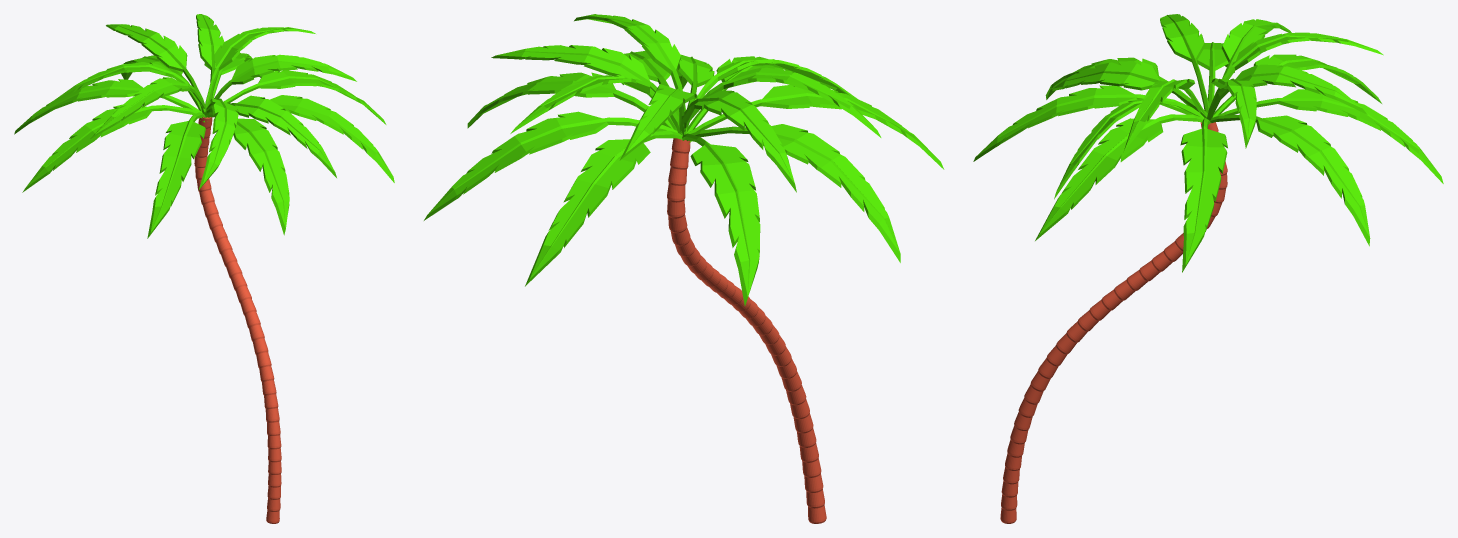
File: SOT works.fbx
3 renders of one model, left to right at view 1: azimuth 30°, elevation 25°; view 2: azimuth 150°, elevation 25°; view 3: azimuth 270°, elevation 25°, orthographic. The views are drawn at different scales.
Parts seen in each view (by area): view 1: Cylinder.119, Plane.008, Plane.001, Plane.004, Plane.016, Plane.007, Plane.010, Plane.005, Plane.014, Plane.013, Plane.009, Plane.002 (+4 smaller); view 2: Cylinder.119, Plane.005, Plane.003, Plane.006, Plane.004, Plane.012, Plane.015, Plane.008, Plane.002, Plane.013, Plane.010, Plane.014 (+5 smaller); view 3: Cylinder.119, Plane.002, Plane.006, Plane.007, Plane.001, Plane.003, Plane.009, Plane.011, Plane.013, Plane.014, Plane.016, Plane.010 (+5 smaller).
Boxes of the visible parts, <box> form: Cylinder.119: <box>194,117,281,523</box>; Plane.008: <box>147,112,206,238</box>; Plane.001: <box>204,112,289,235</box>; Plane.004: <box>22,104,202,192</box>; Plane.016: <box>203,95,336,177</box>; Plane.007: <box>207,95,394,182</box>; Plane.010: <box>205,54,356,113</box>; Plane.005: <box>14,79,202,134</box>; Plane.014: <box>106,24,204,113</box>; Plane.013: <box>90,77,206,138</box>; Plane.009: <box>199,98,238,189</box>; Plane.002: <box>200,70,386,124</box>; Cylinder.119: <box>667,138,826,523</box>; Plane.005: <box>682,133,760,305</box>; Plane.003: <box>525,130,682,286</box>; Plane.006: <box>424,111,691,220</box>; Plane.004: <box>687,124,900,262</box>; Plane.012: <box>680,90,796,192</box>; Plane.015: <box>491,45,685,135</box>; Plane.008: <box>687,85,944,169</box>; Plane.002: <box>467,72,689,144</box>; Plane.013: <box>684,67,881,137</box>; Plane.010: <box>574,14,686,133</box>; Plane.014: <box>619,83,697,160</box>; Cylinder.119: <box>1000,122,1227,523</box>; Plane.002: <box>1180,118,1227,272</box>; Plane.006: <box>1210,115,1370,246</box>; Plane.007: <box>1035,114,1203,240</box>; Plane.001: <box>973,85,1193,161</box>; Plane.003: <box>1214,89,1443,183</box>; Plane.009: <box>1052,61,1207,118</box>; Plane.011: <box>1207,64,1367,120</box>; Plane.013: <box>1160,14,1209,113</box>; Plane.014: <box>1211,32,1383,102</box>; Plane.016: <box>1054,98,1204,199</box>; Plane.010: <box>1123,79,1205,151</box>.
Size of the model in its own units: 6411 by 7208 by 6374.
